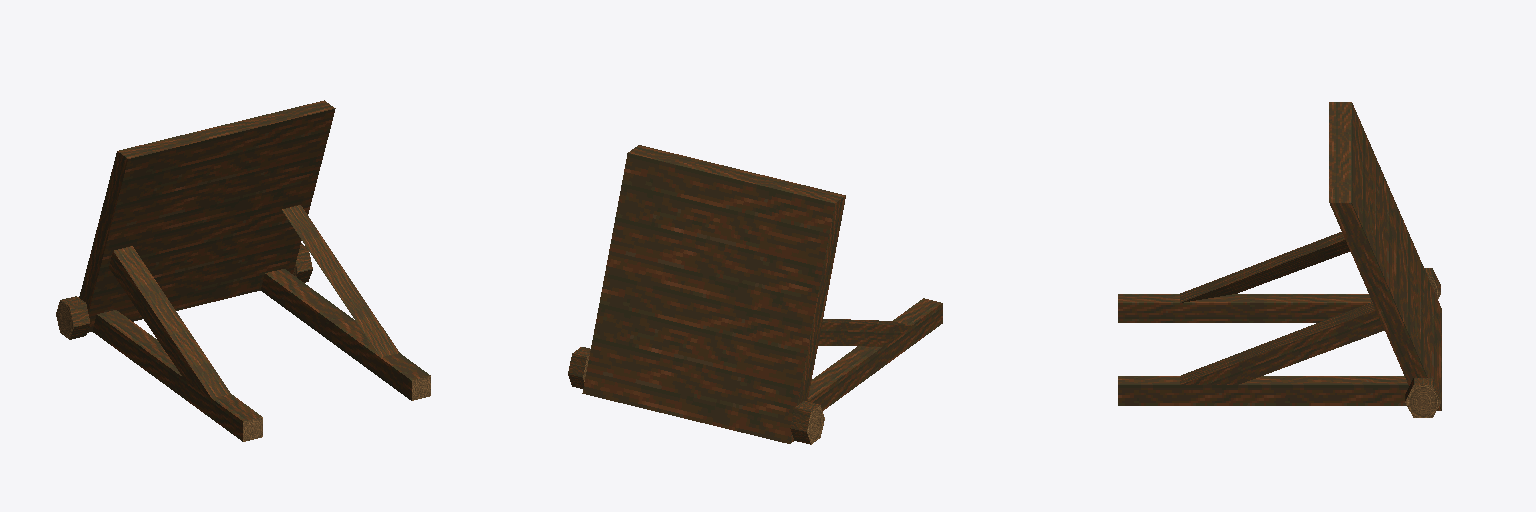
3 renders of one model, left to right at view 1: azimuth 30°, elevation 25°; view 2: azimuth 150°, elevation 25°; view 3: azimuth 270°, elevation 25°, orthographic.
Visible parts, largest first — view 1: model41402-node_model41402; view 2: model41402-node_model41402; view 3: model41402-node_model41402.
Boxes of the visible parts, x1=… form: model41402-node_model41402: x1=56, y1=100, x2=430, y2=441; model41402-node_model41402: x1=568, y1=145, x2=942, y2=444; model41402-node_model41402: x1=1118, y1=102, x2=1441, y2=417.
Bounding box in the file's own units: 3.98 × 3.3 × 4.67.
3 materials, 3 textured.